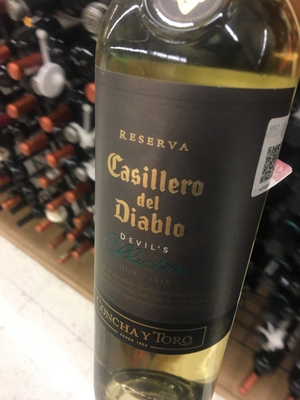casillero del diablo devils collection verde: (80, 18, 295, 400)
